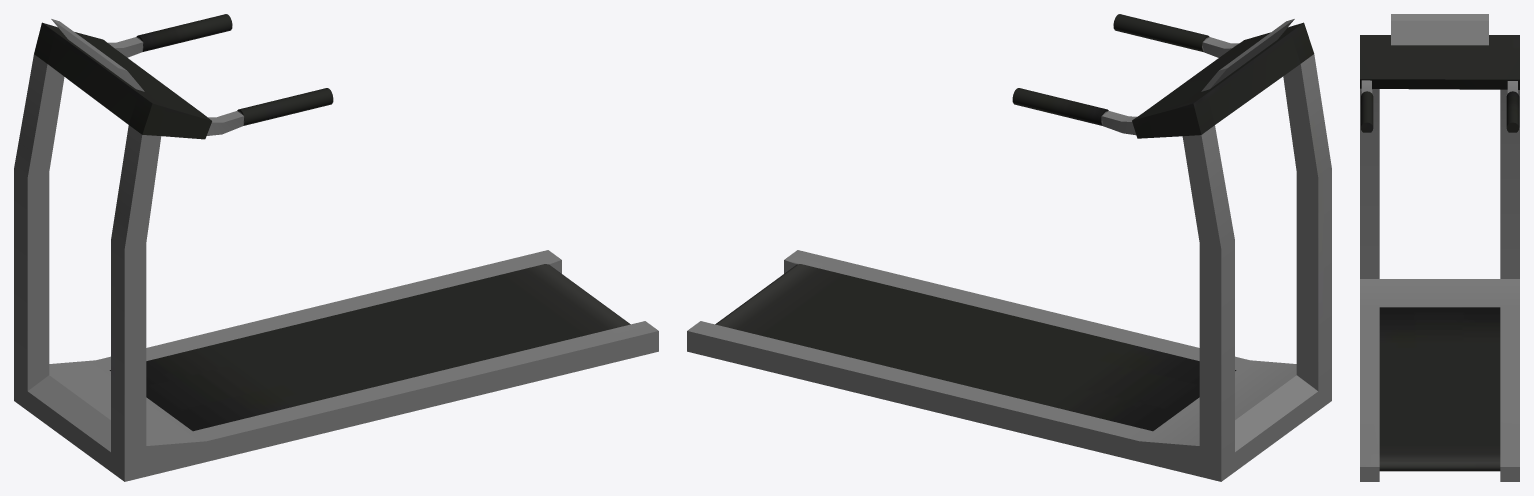
File: treadmill2-transformed.glb
3 renders of one model, left to right at view 1: azimuth 30°, elevation 25°; view 2: azimuth 150°, elevation 25°; view 3: azimuth 270°, elevation 25°, orthographic. The views are drawn at different scales.
Parts seen in each view (by area): view 1: pCylinder2_lambert1_0; view 2: pCylinder2_lambert1_0; view 3: pCylinder2_lambert1_0.
Part boxes in pixels (box(x1,y1,x2,y2)): pCylinder2_lambert1_0: box(14, 14, 658, 481); pCylinder2_lambert1_0: box(687, 14, 1331, 481); pCylinder2_lambert1_0: box(1360, 14, 1519, 481).
Size of the model in its own units: 1.73 by 1.22 by 0.6208.
1 material, 1 textured.
